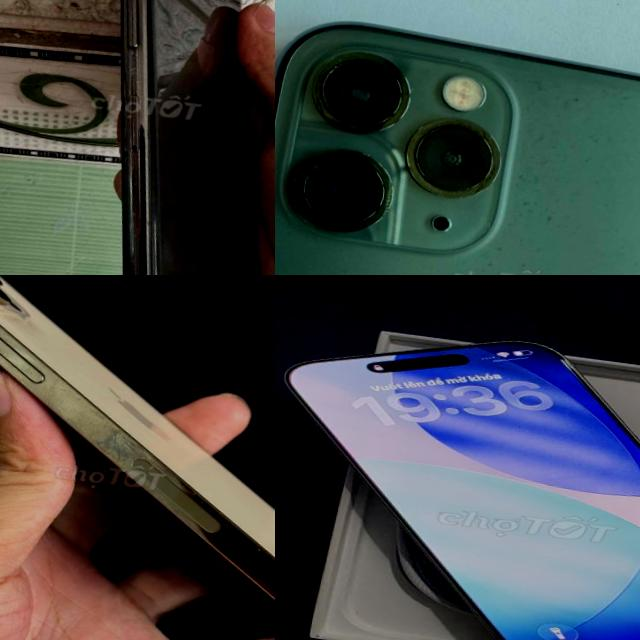scratch: (280, 26, 502, 248), (490, 52, 640, 250), (78, 417, 182, 491), (110, 44, 163, 170), (252, 538, 264, 558)
